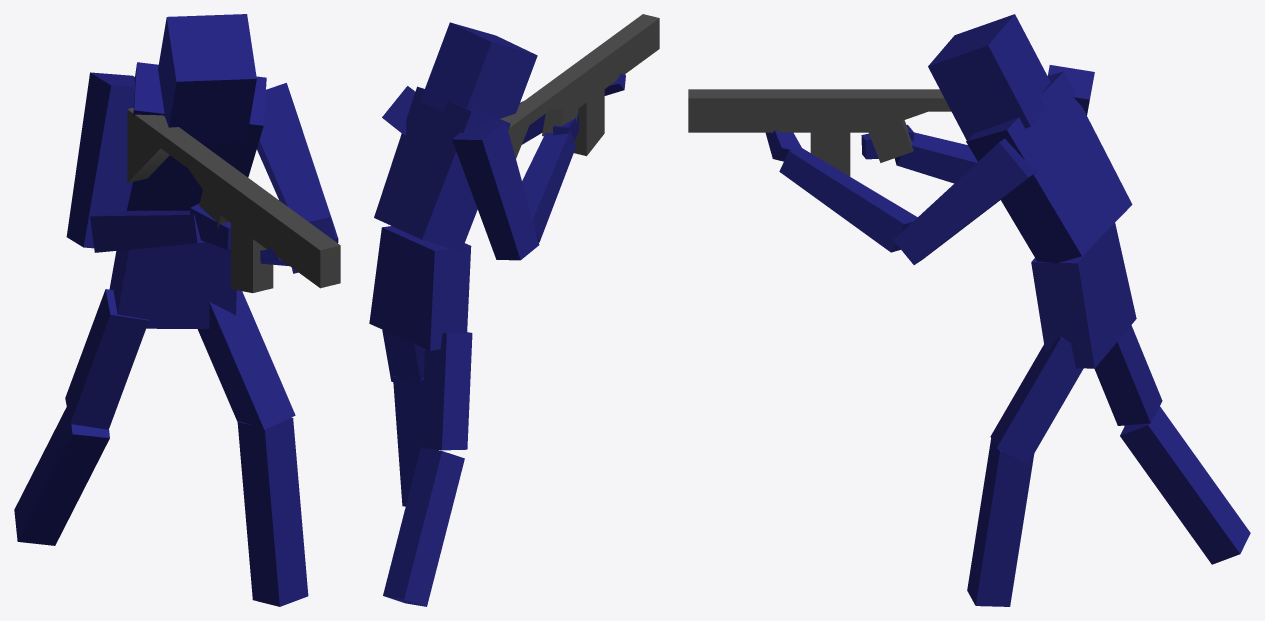
File: Player_Placeholder.fbx
The picture shows the model from 3 angles, left to right: view 1: azimuth 30°, elevation 25°; view 2: azimuth 150°, elevation 25°; view 3: azimuth 270°, elevation 25°; orthographic projection. The views are drawn at different scales.
Visible parts, largest first — view 1: playerCharacterC, wep; view 2: playerCharacterC, wep; view 3: playerCharacterC, wep.
Part boxes in pixels (box(x1,y1,x2,y2)): playerCharacterC: box(14, 14, 338, 606); wep: box(127, 107, 340, 292); playerCharacterC: box(369, 22, 625, 606); wep: box(500, 14, 659, 158); playerCharacterC: box(765, 14, 1250, 606); wep: box(688, 89, 951, 176).
Bounding box in the file's own units: 56.18 × 165 × 152.
